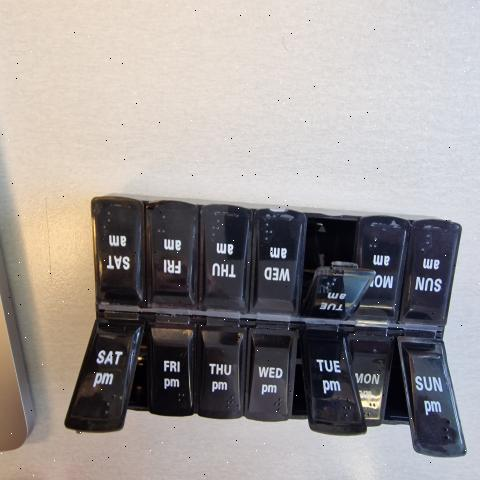Open: (297, 216, 360, 312), (382, 334, 415, 449), (122, 317, 148, 428), (289, 331, 310, 427)
